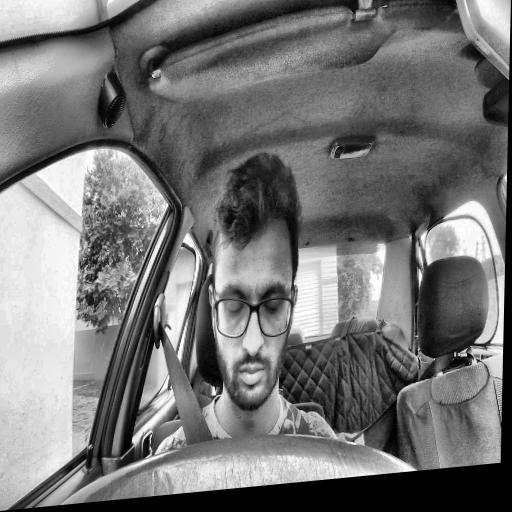drowsy: (205, 145, 303, 418)
